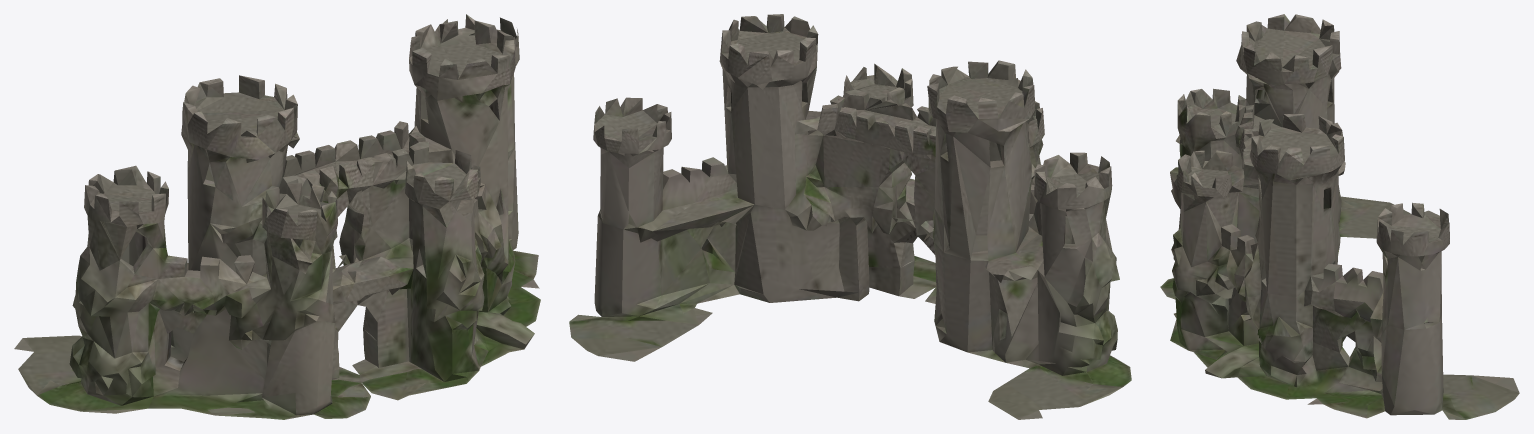
Rendered from cragmaw.glb.
3 views of the same model, side by side, from view 1: azimuth 30°, elevation 25°; view 2: azimuth 150°, elevation 25°; view 3: azimuth 270°, elevation 25° (orthographic). The views are drawn at different scales.
Size of the model in its own units: 1.9 by 0.9529 by 1.29.
Materials: 1 (1 with a texture image).
